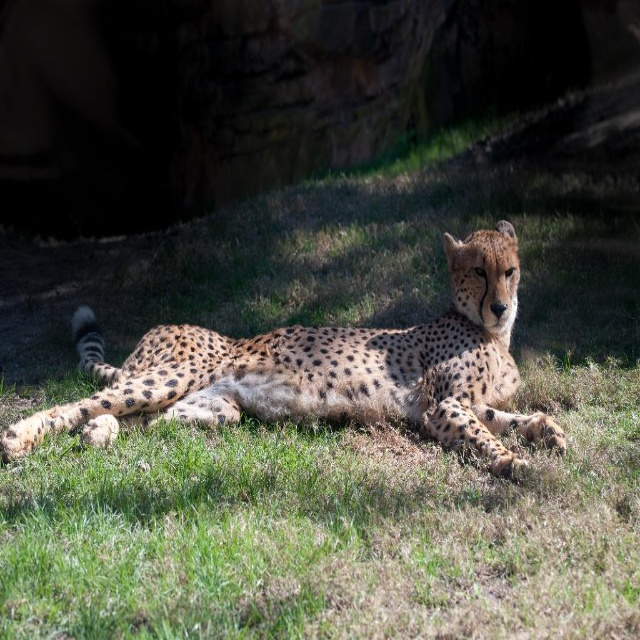Cheetah: (0, 216, 566, 485)
